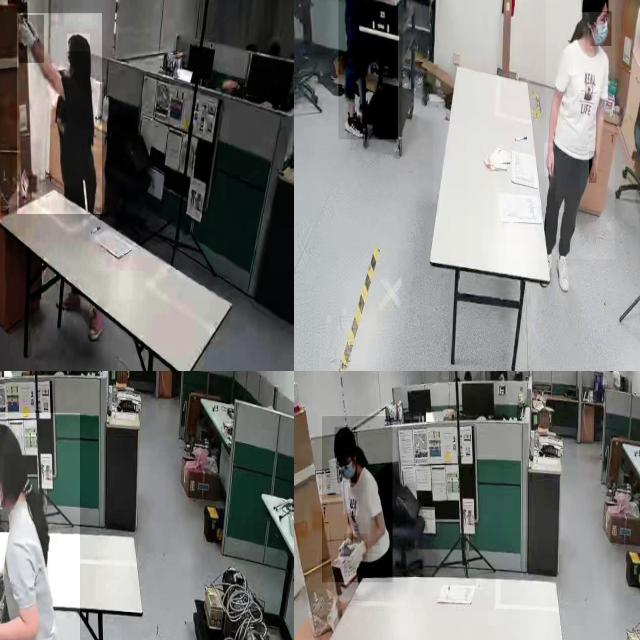face_mask: (590, 11, 612, 46), (337, 448, 357, 483)
hand_glove: (18, 15, 44, 64), (344, 534, 368, 574)
hand_noglove: (544, 143, 554, 177), (589, 151, 597, 184)
head_nohelmet: (0, 423, 19, 454), (334, 427, 356, 447), (67, 34, 91, 52), (581, 0, 609, 13)
person: (0, 413, 80, 640), (546, 0, 615, 260), (17, 13, 103, 215), (322, 416, 393, 583), (338, 0, 398, 140)
shoes: (56, 284, 84, 316), (342, 110, 367, 140), (554, 254, 572, 293)
